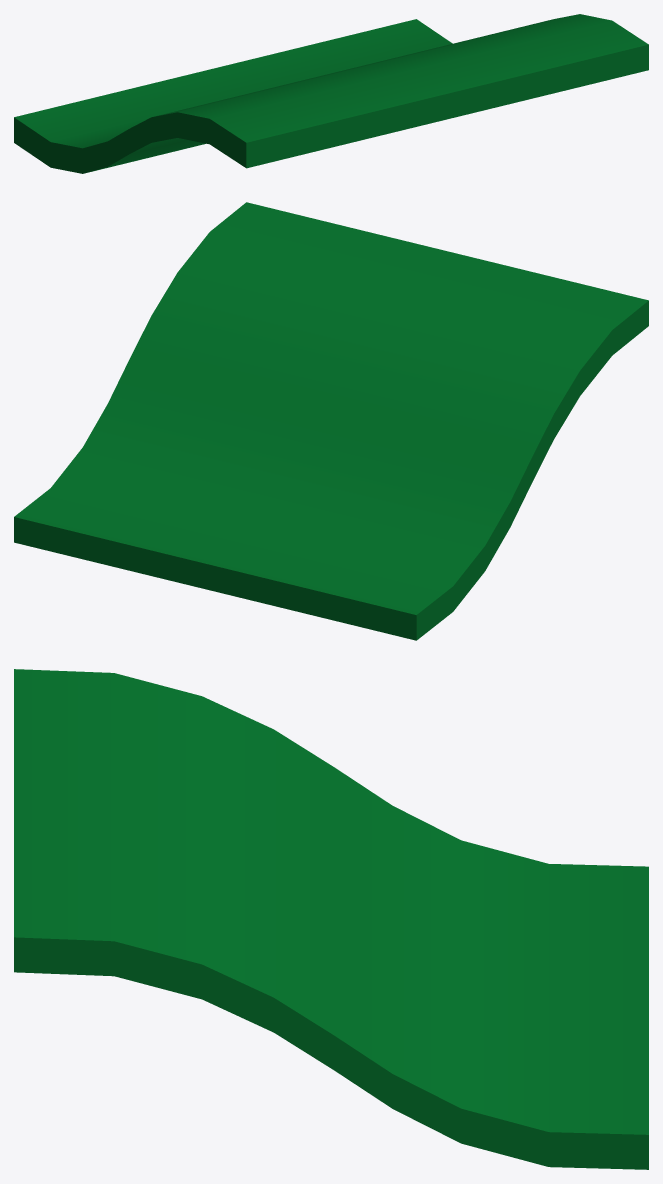
File: basic_half_slope.gltf
3 renders of one model, top to bottom at view 1: azimuth 30°, elevation 25°; view 2: azimuth 150°, elevation 25°; view 3: azimuth 270°, elevation 25°, orthographic. The views are drawn at different scales.
Parts seen in each view (by area): view 1: basic_half_slope_glb; view 2: basic_half_slope_glb; view 3: basic_half_slope_glb.
Boxes of the visible parts, x1=… form: basic_half_slope_glb: x1=14, y1=14, x2=648, y2=173; basic_half_slope_glb: x1=14, y1=202, x2=648, y2=640; basic_half_slope_glb: x1=14, y1=669, x2=648, y2=1169.
Size of what is drawn, in the model's own units: 4 by 1.62 by 4.
Materials: 1 (1 with a texture image).
